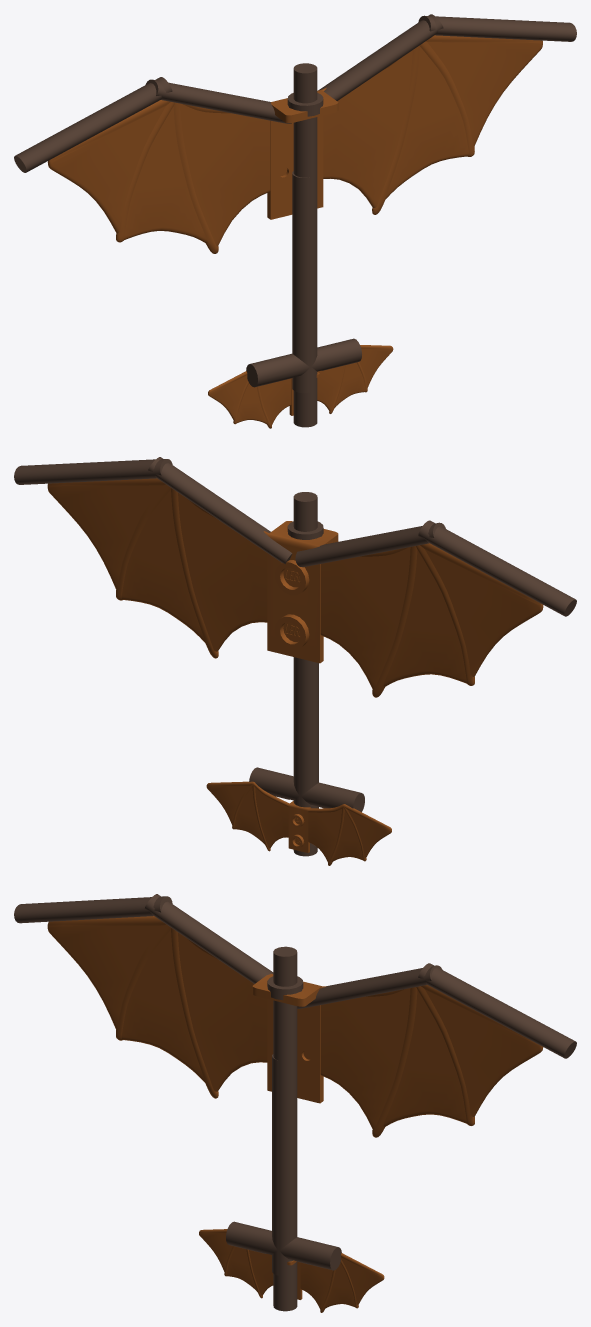
The model's file is Planador.fbx.
3 views of the same model, one above another, from view 1: azimuth 30°, elevation 25°; view 2: azimuth 150°, elevation 25°; view 3: azimuth 330°, elevation 25° (orthographic).
Parts seen in each view (by area): view 1: part.002, part.001, part, part.007, part.003, part.006, part.005, part.004; view 2: part.002, part.007, part.001, part.003, part.005, part.006, part, part.004; view 3: part.002, part, part.007, part.001, part.006, part.003, part.004, part.005.
Boxes of the visible parts, bbox=[...] form: part.002: bbox=[47, 35, 542, 253]; part.001: bbox=[246, 171, 361, 393]; part: bbox=[287, 63, 323, 427]; part.007: bbox=[208, 345, 393, 428]; part.003: bbox=[14, 77, 172, 172]; part.006: bbox=[418, 15, 576, 41]; part.005: bbox=[318, 14, 443, 100]; part.004: bbox=[145, 79, 291, 123]; part.002: bbox=[47, 478, 543, 697]; part.007: bbox=[206, 781, 391, 865]; part.001: bbox=[249, 658, 364, 812]; part.003: bbox=[418, 520, 576, 616]; part.005: bbox=[148, 457, 292, 564]; part.006: bbox=[14, 459, 172, 484]; part: bbox=[287, 492, 323, 856]; part.004: bbox=[295, 522, 445, 567]; part.002: bbox=[47, 916, 543, 1137]; part: bbox=[267, 946, 303, 1311]; part.007: bbox=[199, 1229, 384, 1312]; part.001: bbox=[226, 1054, 341, 1275]; part.006: bbox=[418, 963, 576, 1058]; part.003: bbox=[14, 896, 172, 923]; part.004: bbox=[144, 894, 273, 983]; part.005: bbox=[297, 965, 442, 1008].
Bounding box in the file's own units: 8519 × 5467 × 673.
